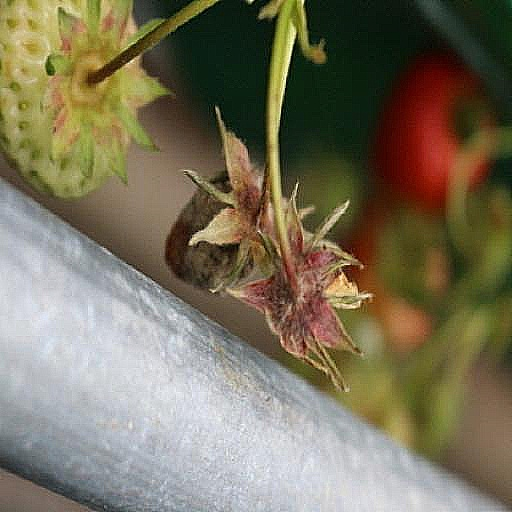Gray Mold: (145, 183, 290, 392), (232, 131, 350, 293)
